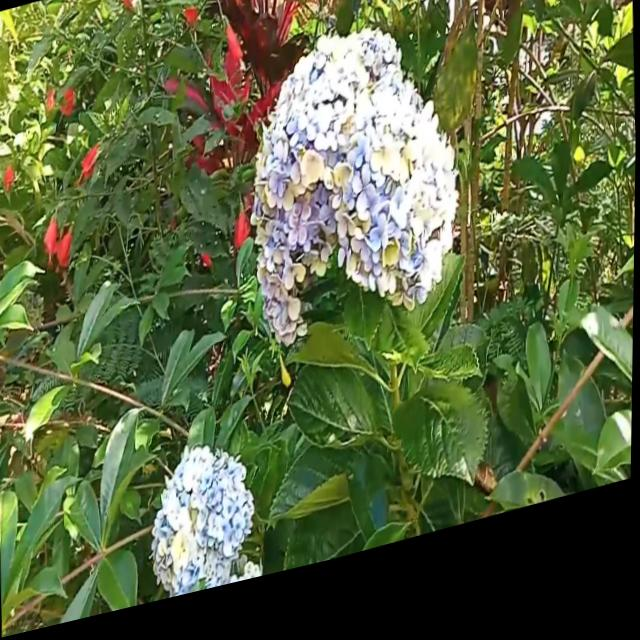Flower: (244, 17, 466, 376), (149, 435, 264, 611)
